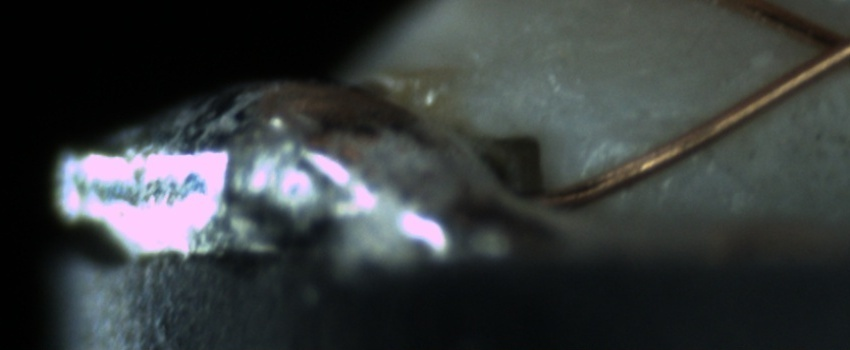CL: (780, 8, 849, 85)
DL: (574, 110, 703, 165)
